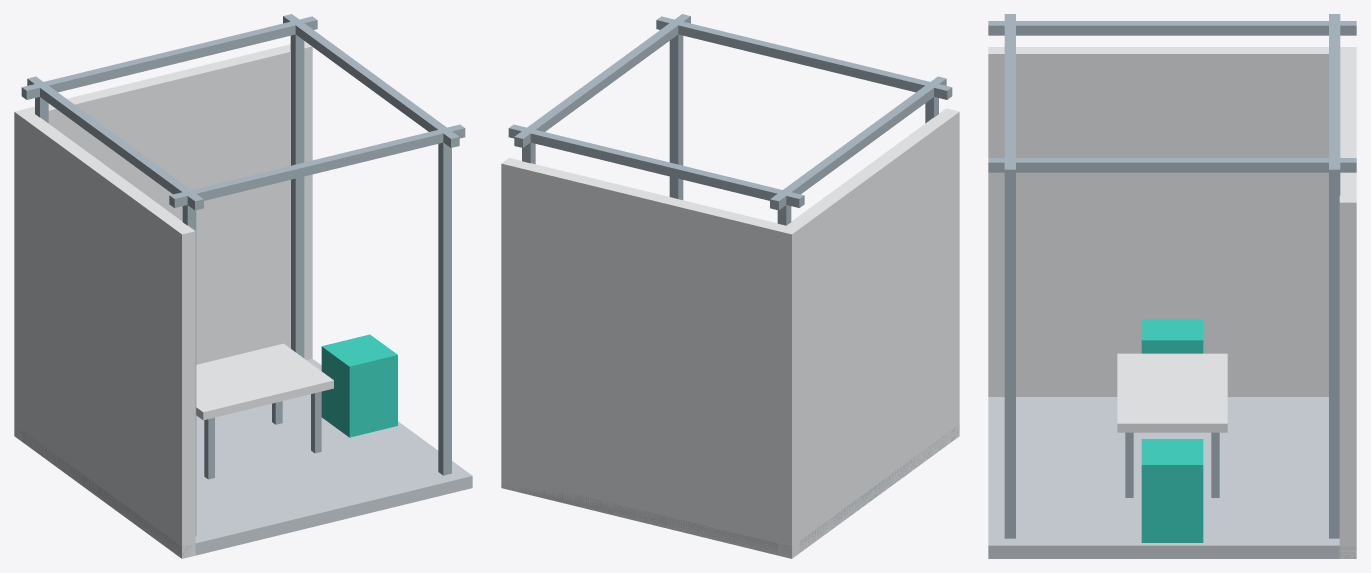
3 views of the same model, side by side, from view 1: azimuth 30°, elevation 25°; view 2: azimuth 150°, elevation 25°; view 3: azimuth 270°, elevation 25° (orthographic). The views are drawn at different scales.
Parts seen in each view (by area): view 1: Exhibition Booth Concept; view 2: Exhibition Booth Concept; view 3: Exhibition Booth Concept.
Boxes of the visible parts, box(x1,y1,x2,y2) form: Exhibition Booth Concept: box(14, 14, 472, 558); Exhibition Booth Concept: box(501, 14, 959, 558); Exhibition Booth Concept: box(988, 14, 1356, 558).
Bounding box in the file's own units: 3 × 3.49 × 3.
